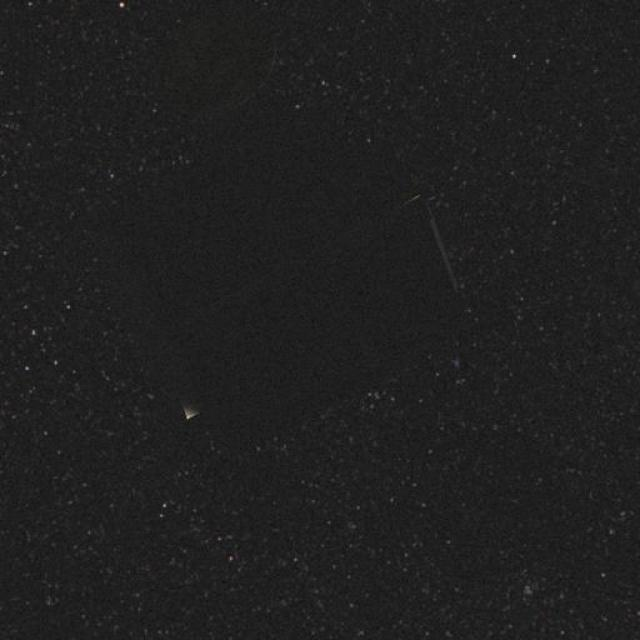cheops: (127, 147, 438, 432)
